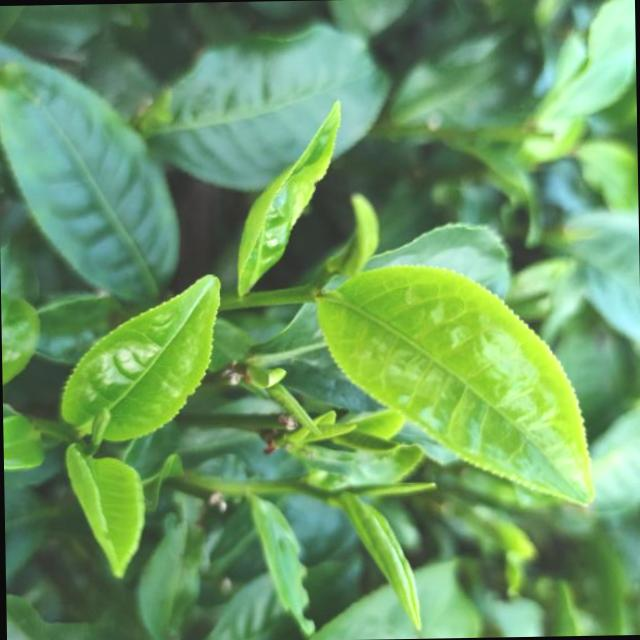Stem: (286, 283, 314, 303), (311, 486, 330, 503)
